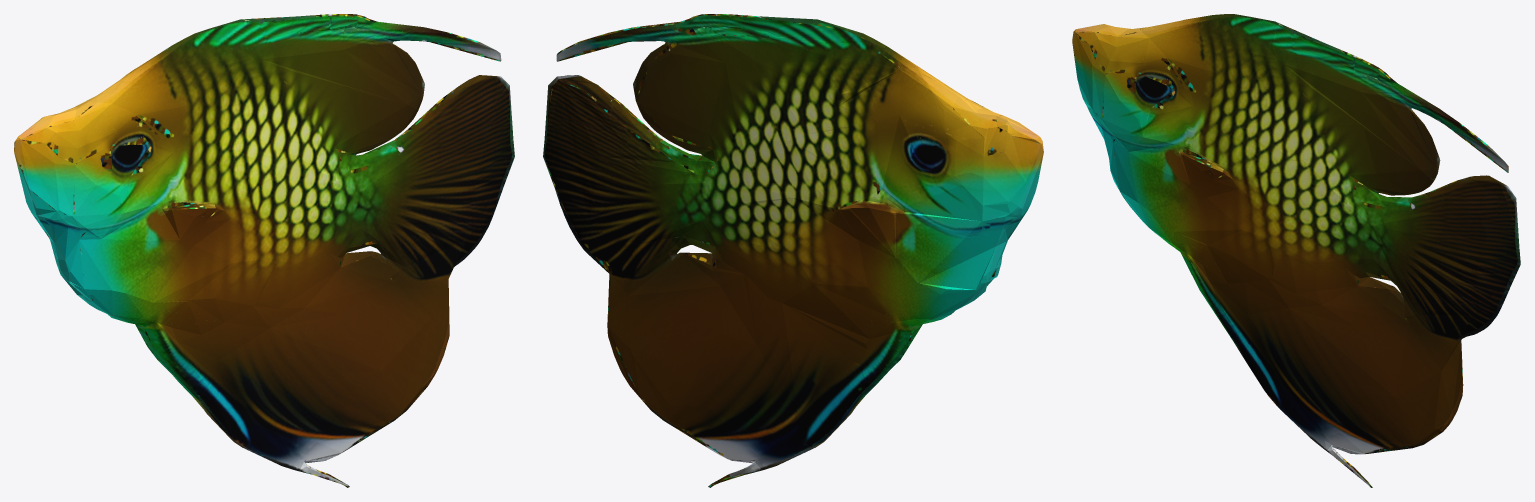
Rendered from fish_0056_smpl23_resized.glb.
The picture shows the model from 3 angles, left to right: view 1: azimuth 30°, elevation 25°; view 2: azimuth 150°, elevation 25°; view 3: azimuth 330°, elevation 25°; orthographic projection. The views are drawn at different scales.
Visible parts, largest first — view 1: world; view 2: world; view 3: world.
Part boxes in pixels (x1=…): world: x1=14, y1=14, x2=514, y2=487; world: x1=543, y1=14, x2=1043, y2=487; world: x1=1072, y1=14, x2=1520, y2=487.
Size of the model in its own units: 1.99 by 1.88 by 0.2583.
1 material, 1 textured.
